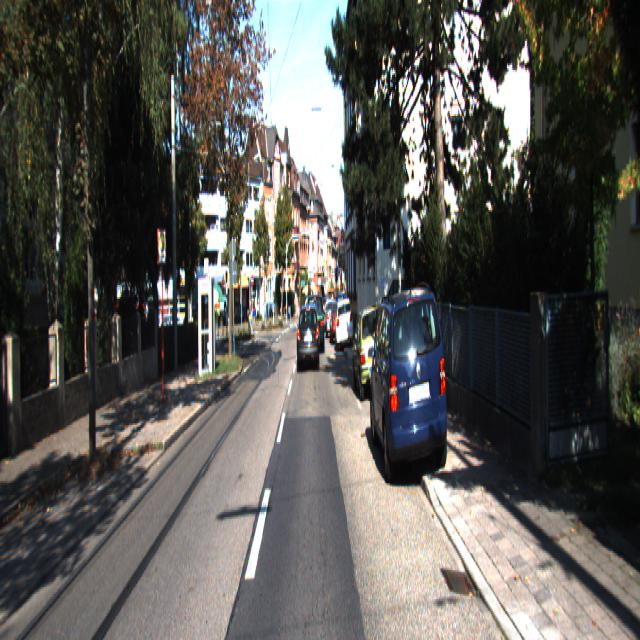Car: (367, 281, 451, 499), (352, 300, 390, 403), (296, 304, 319, 375), (306, 292, 324, 355), (335, 296, 354, 353)
